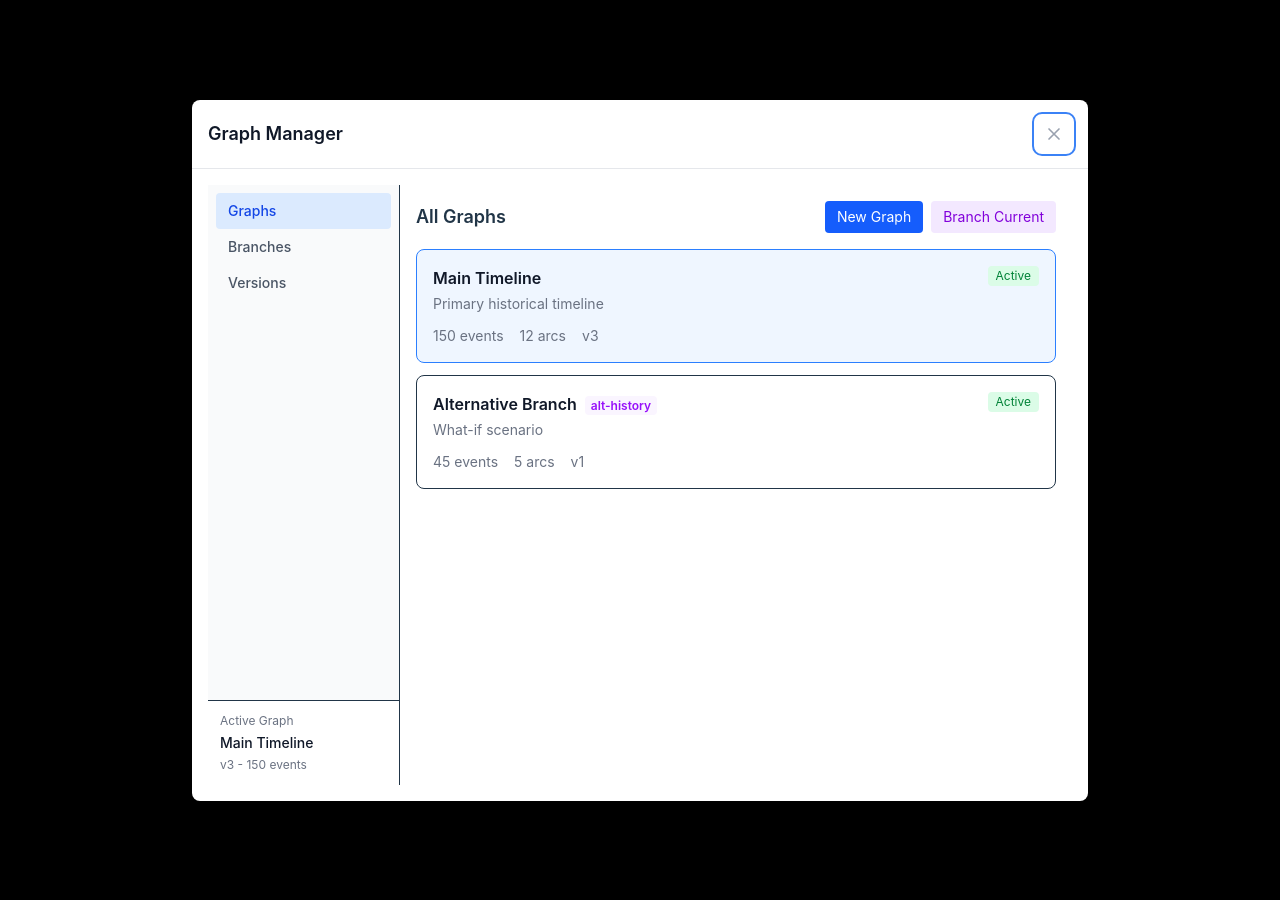
Test case: GraphManagerModal › Graph Selection and Actions › should show action buttons when graph is selected
The width and height of the screenshot is (1280, 900).
# Click on a non-active graph to select it
Click the text "Alternative Branch": (736, 432) [416,374,1056,488]
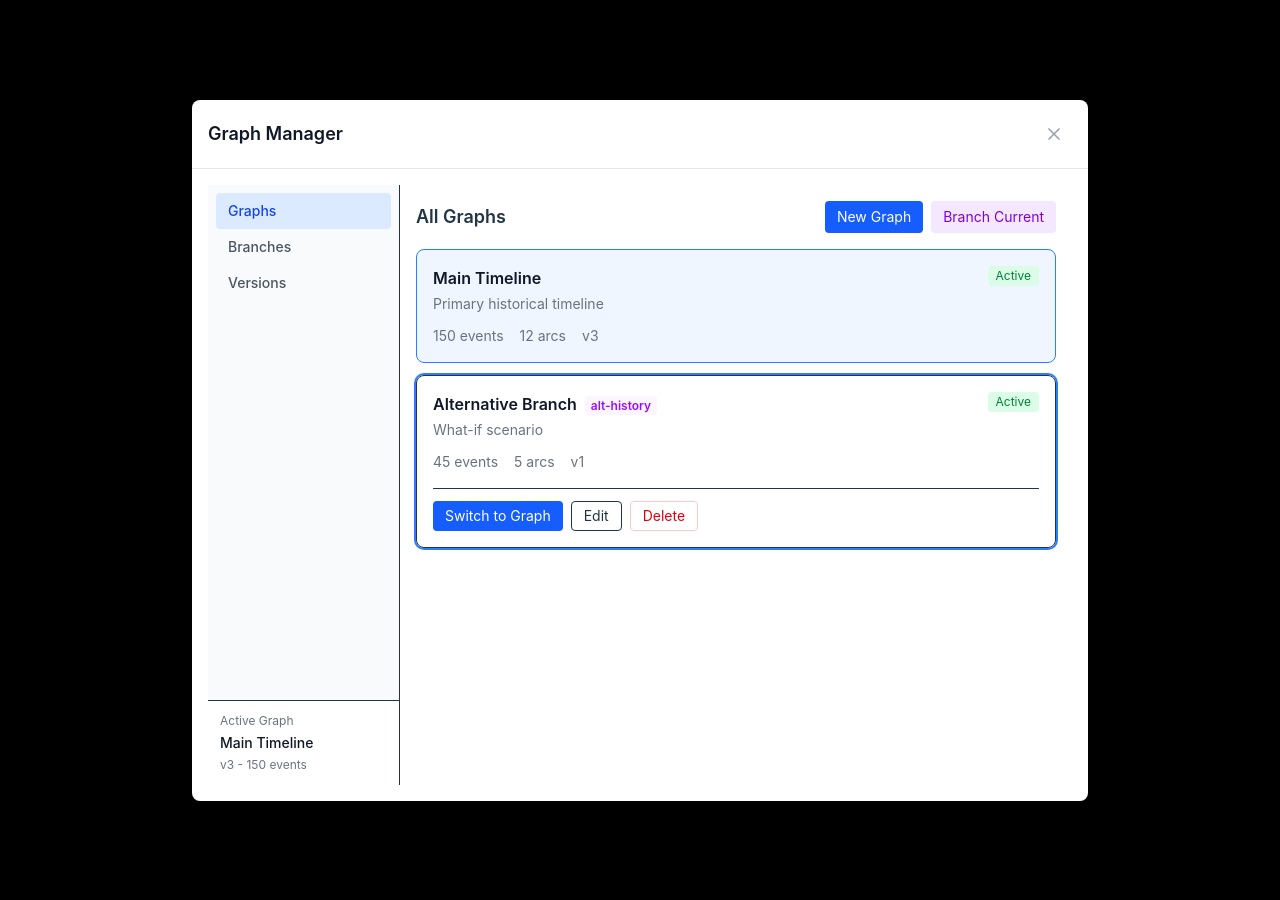
Now the button "Switch to Graph" is shown, box [433,500,563,530]
Now the button "Edit" is shown, box [571,500,622,530]
Now the button "Delete" is shown, box [630,500,698,530]
